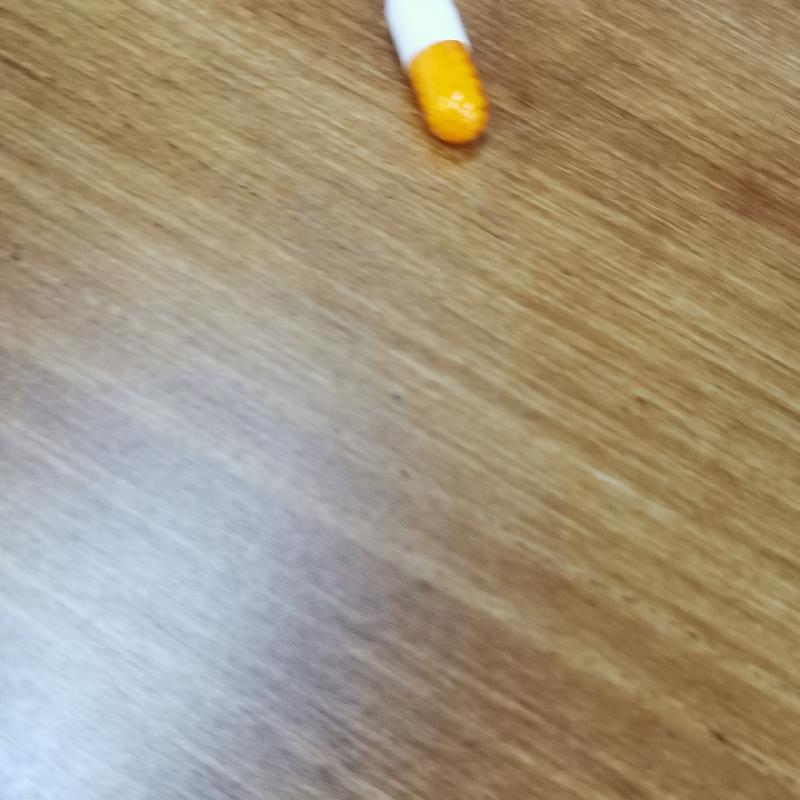pills: (370, 5, 513, 156)
